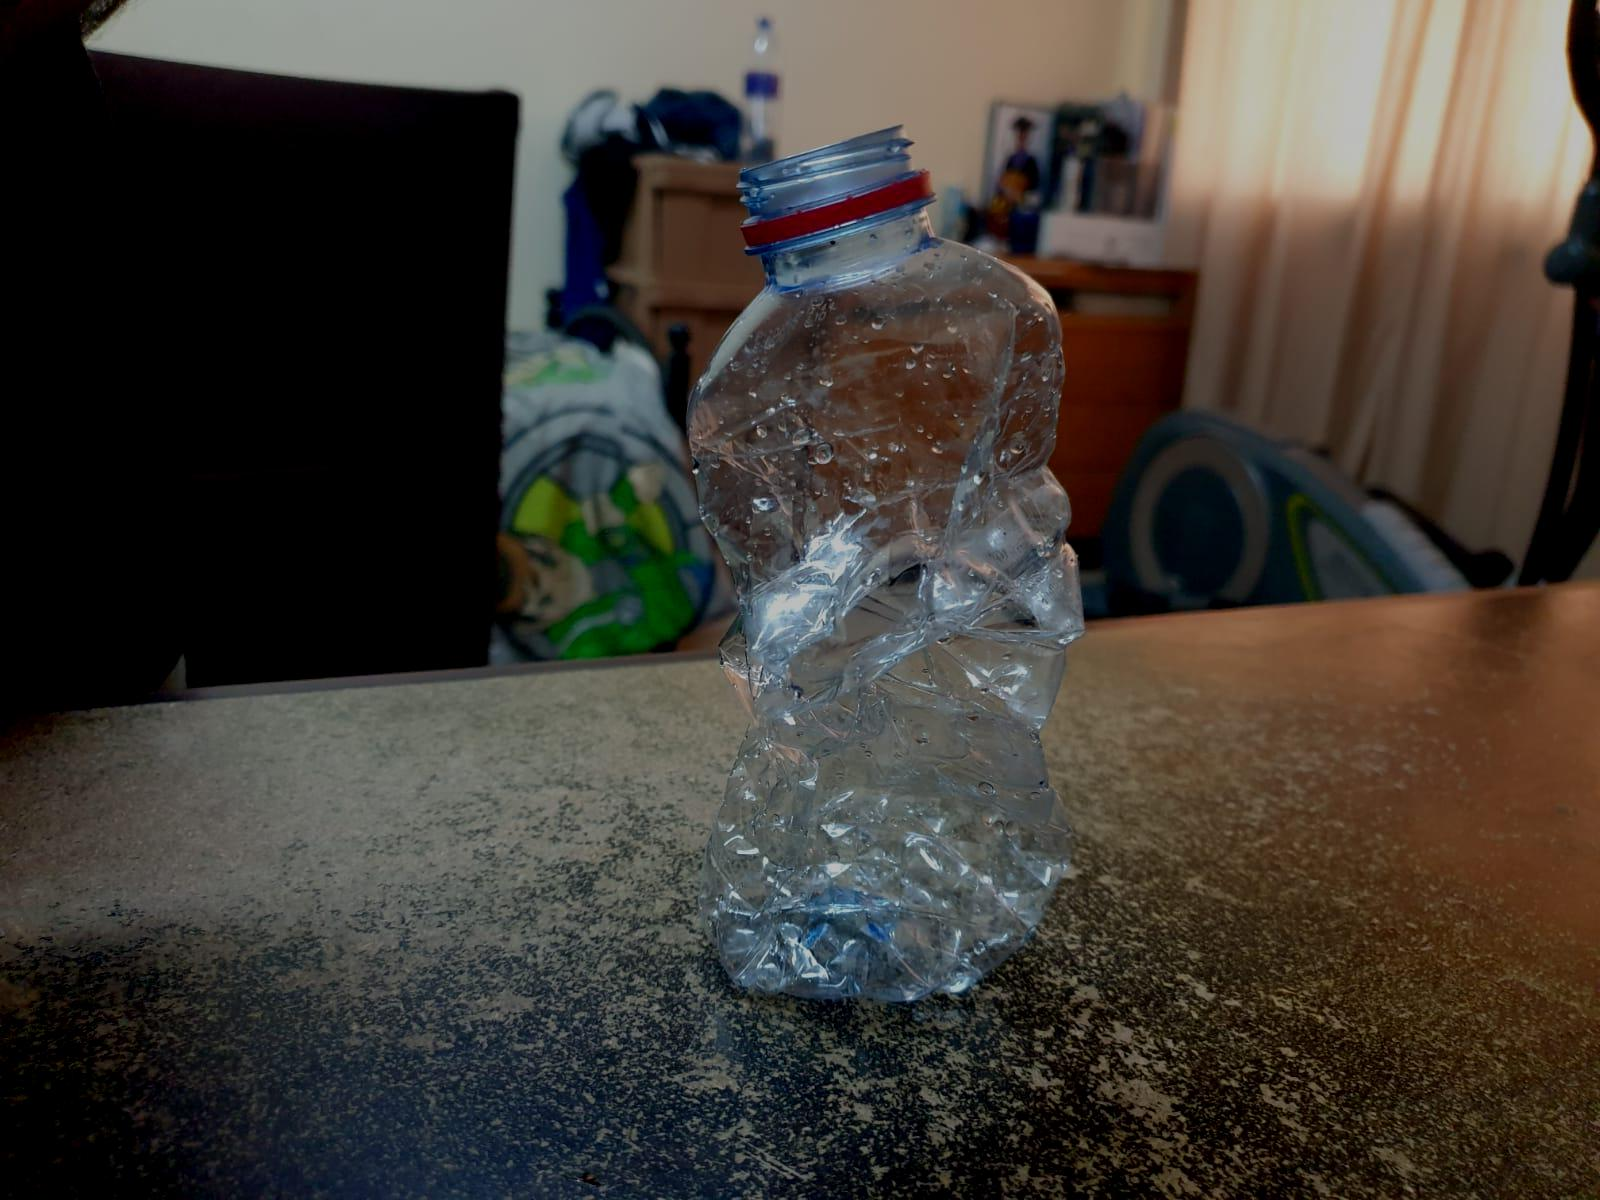bottle: (694, 141, 1077, 1011)
